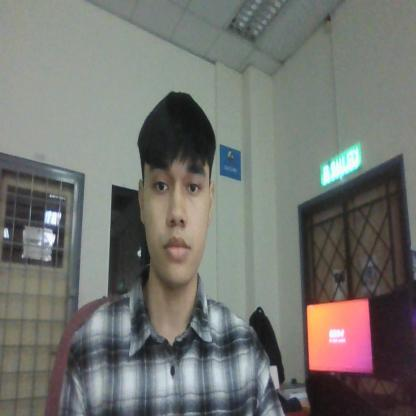Open-Eyes: (144, 166, 209, 206)
